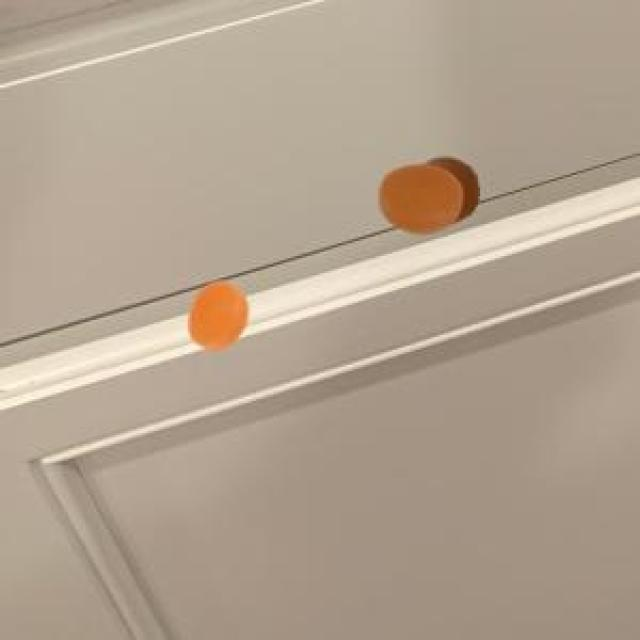Bactidol: (363, 134, 484, 241), (178, 271, 248, 363)
